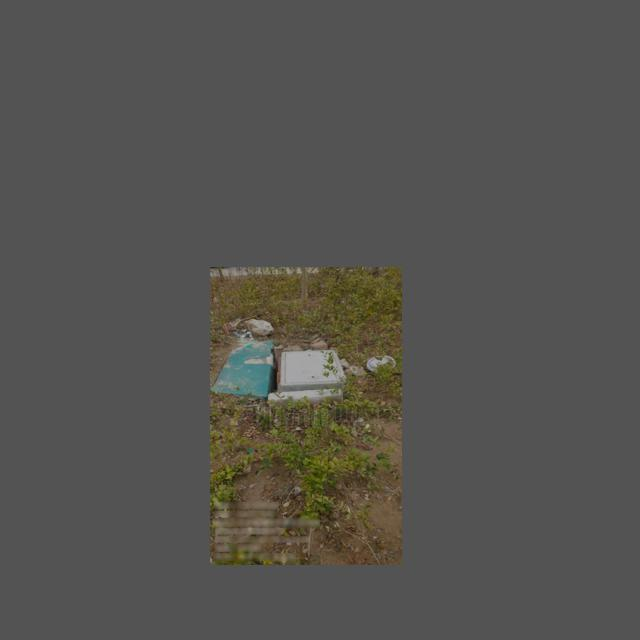circle: (266, 346, 351, 400)
